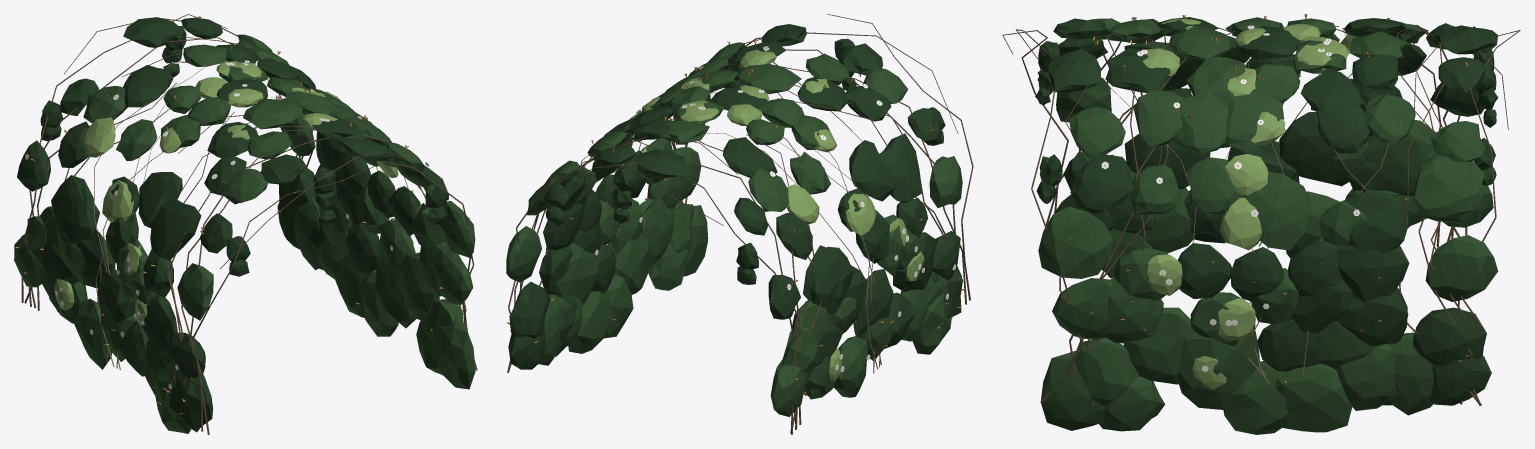
File: viraglugas-orokzold.glb
3 renders of one model, left to right at view 1: azimuth 30°, elevation 25°; view 2: azimuth 150°, elevation 25°; view 3: azimuth 270°, elevation 25°, orthographic. The views are drawn at different scales.
Visible parts, largest first — view 1: lomb-lonc, lomb-lonc-arnyek, lomb-iszalag, vesszo-lonc, vesszo-iszalag, virag-iszalag-feher; view 2: lomb-lonc, lomb-lonc-arnyek, lomb-iszalag, vesszo-lonc, vesszo-iszalag, virag-iszalag-feher; view 3: lomb-lonc, lomb-lonc-arnyek, lomb-iszalag, vesszo-lonc, virag-iszalag-feher, vesszo-iszalag.
Boxes of the visible parts, left/top/right/bottom form: lomb-lonc: left=14, top=34, right=475, bottom=433; lomb-lonc-arnyek: left=17, top=17, right=448, bottom=432; lomb-iszalag: left=54, top=61, right=422, bottom=326; vesszo-lonc: left=21, top=14, right=477, bottom=434; vesszo-iszalag: left=94, top=54, right=408, bottom=369; virag-iszalag-feher: left=25, top=60, right=429, bottom=389; lomb-lonc: left=506, top=42, right=962, bottom=416; lomb-lonc-arnyek: left=508, top=24, right=962, bottom=369; lomb-iszalag: left=629, top=49, right=924, bottom=380; vesszo-lonc: left=507, top=14, right=973, bottom=434; vesszo-iszalag: left=581, top=92, right=881, bottom=373; virag-iszalag-feher: left=595, top=46, right=956, bottom=372; lomb-lonc: left=1038, top=17, right=1497, bottom=434; lomb-lonc-arnyek: left=1035, top=17, right=1498, bottom=405; lomb-iszalag: left=1143, top=18, right=1356, bottom=389; vesszo-lonc: left=1002, top=25, right=1520, bottom=405; virag-iszalag-feher: left=1101, top=17, right=1360, bottom=371; vesszo-iszalag: left=1110, top=25, right=1389, bottom=384.
Size of the model in its own units: 3.58 by 3.31 by 4.71.
